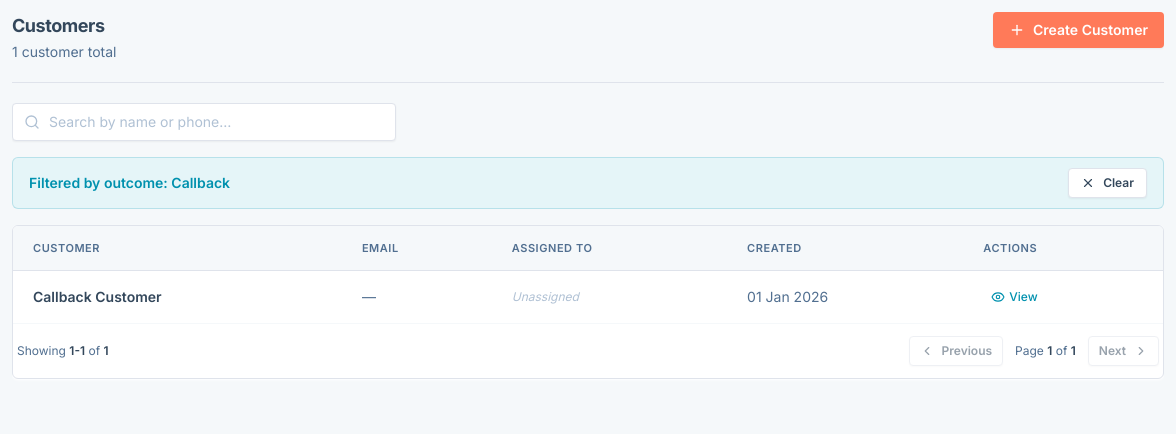
Test case: CustomersPage outcome filtering › clearing the filter restores the full list
This screenshot has width=1176, height=434.
Expected: the text "Callback Customer" is shown, [33,288,162,305]
Expected: the text "Ringing Customer" is not shown
Click the button "Clear".
click(1108, 183)  # box [1068,168,1147,198]
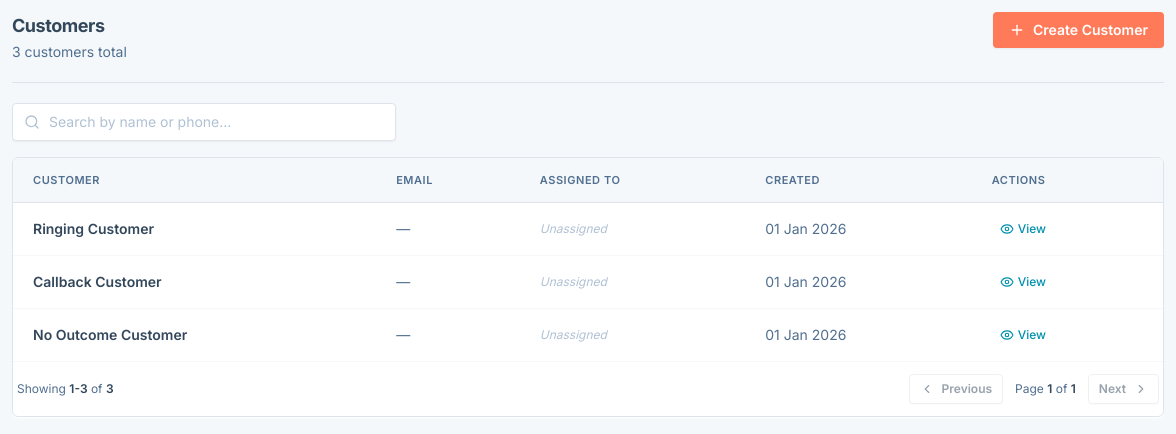
Expected: the text "Callback Customer" is shown, [33,273,162,290]
Now the text "Ringing Customer" is shown, box [33,220,154,237]
Now the text "No Outcome Customer" is shown, box [33,326,187,343]
